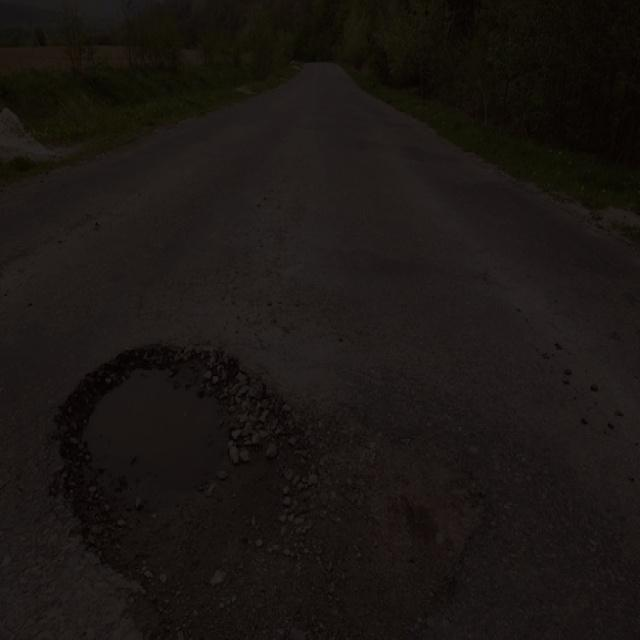Pothole: (41, 334, 314, 610)
